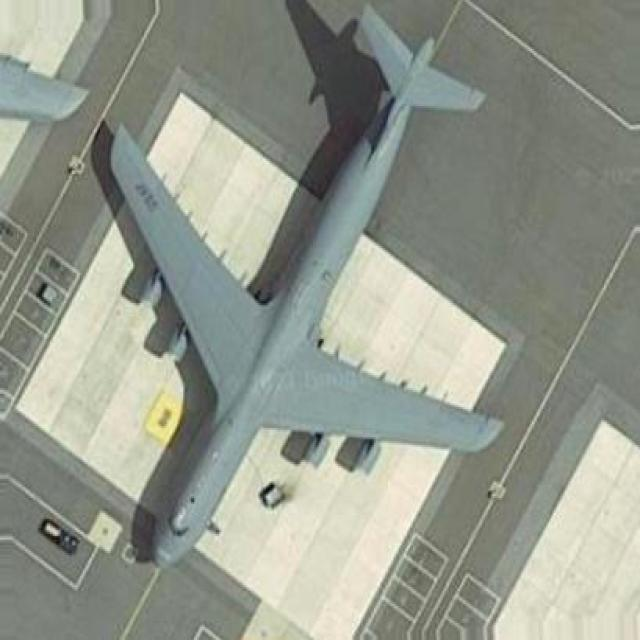C-5_TopDown: (90, 0, 508, 573)
